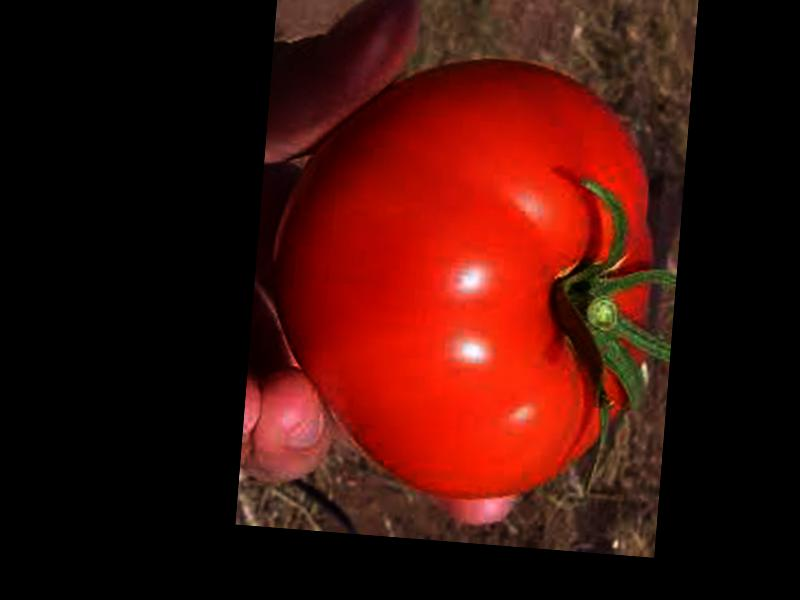Tomato: (260, 50, 665, 510)
